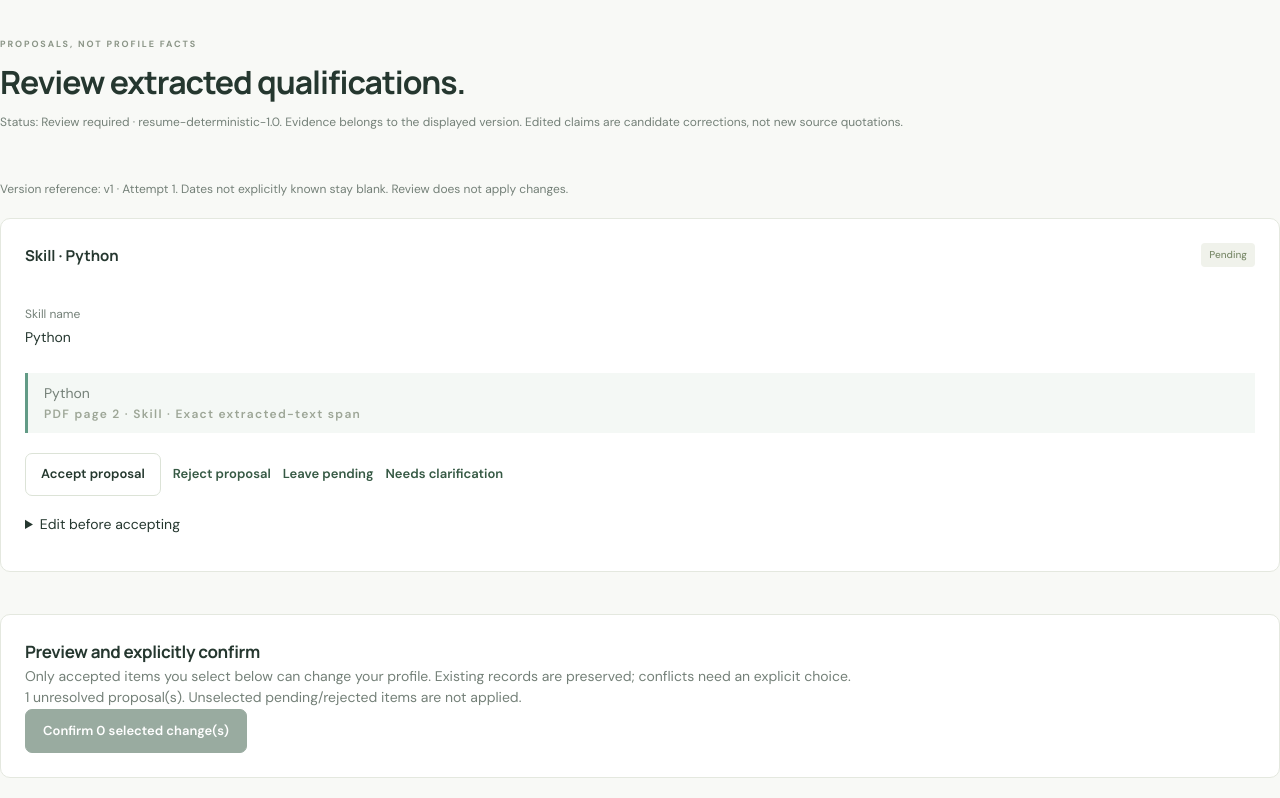
it: resume UI using explicitly mocked HTTP › review acceptance sends revision and never posts confirmation automatically
(page scrolled)
Click the button "Accept proposal" at (93,474), box x1=25 y1=453 x2=161 y2=496
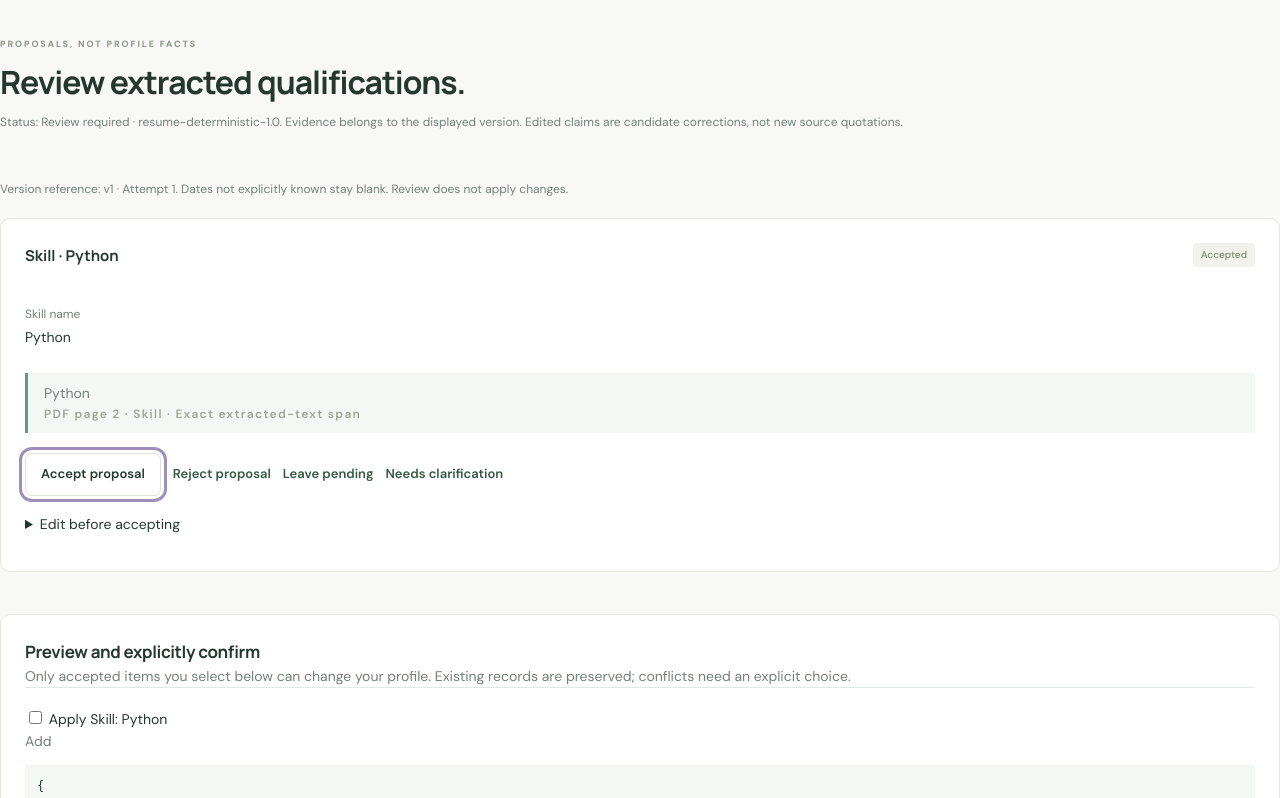
Check: the checkbox labelled "Apply Skill: Python" is shown, box x1=29 y1=711 x2=42 y2=724
